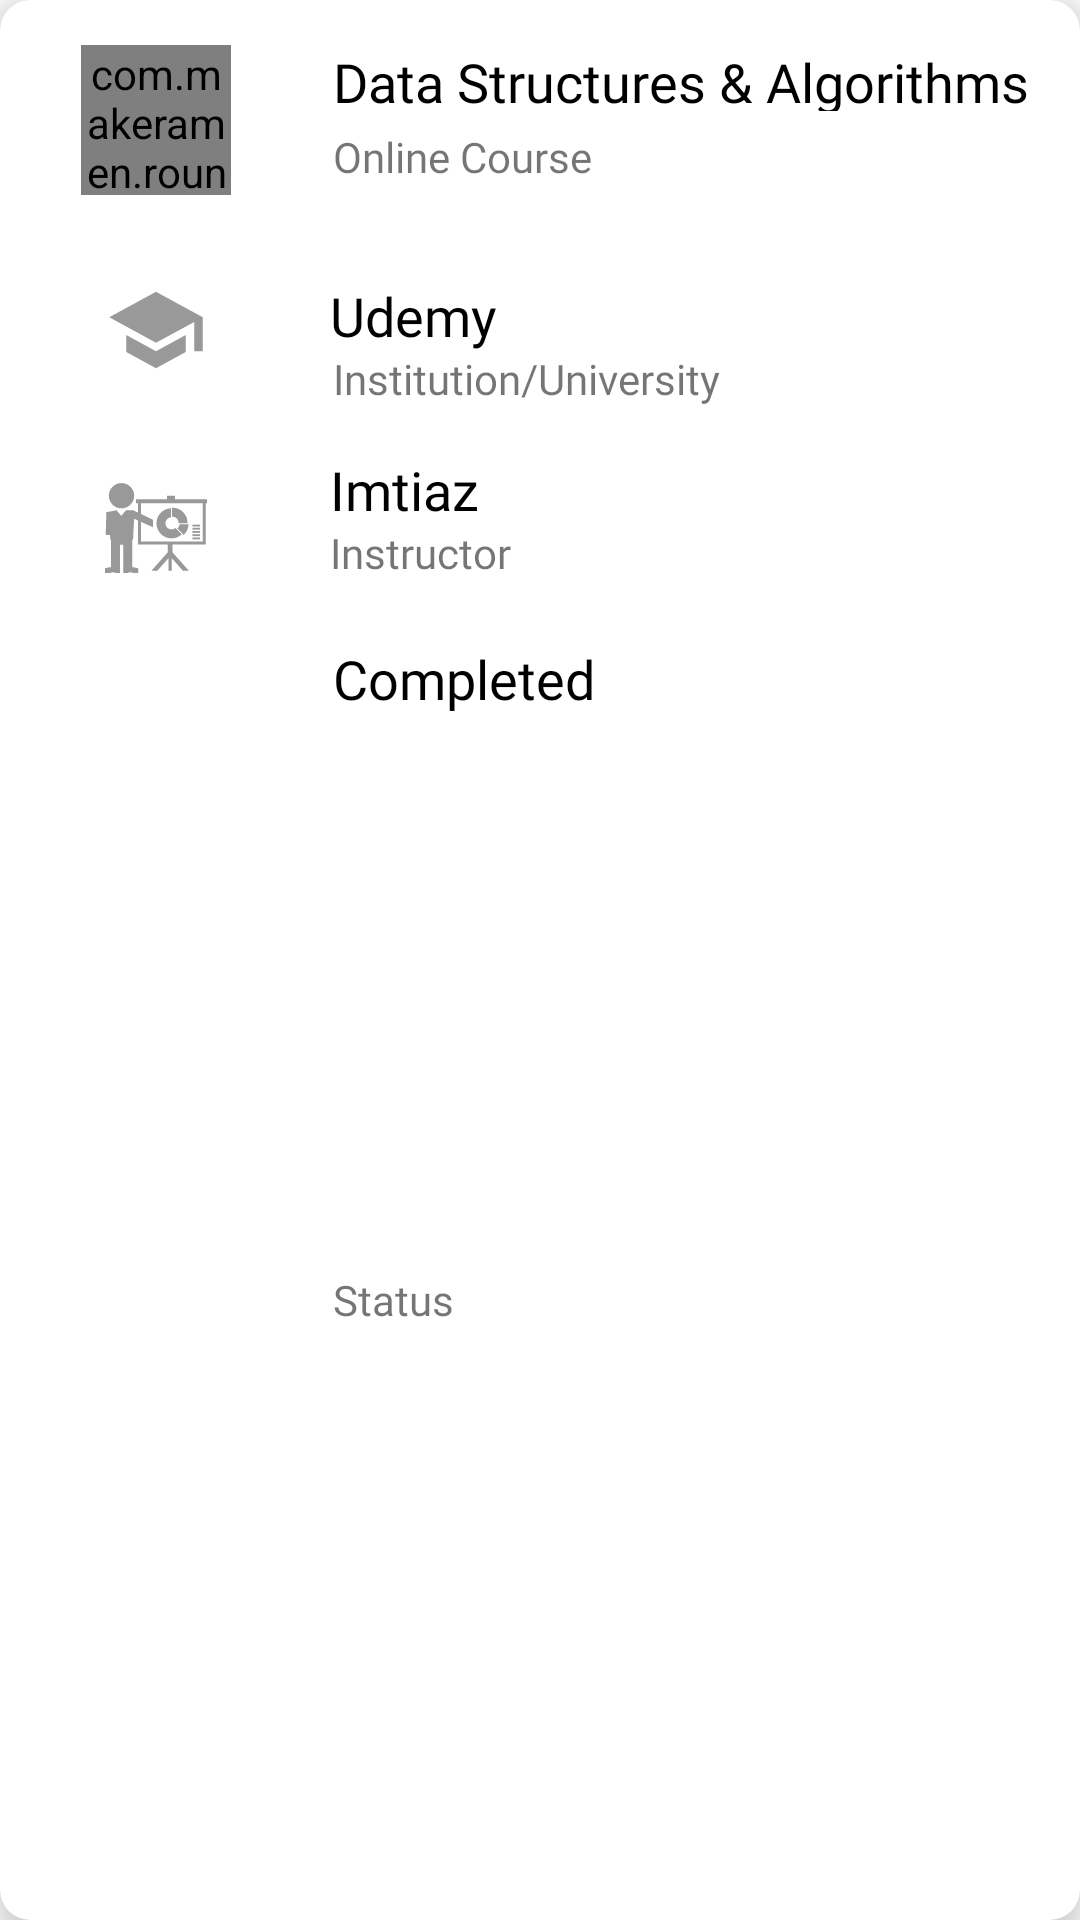

Icon bounding boxes for this 1080x1920 phone screenshot, format (x1, y1, x2, y2):
degree cap: (109, 292, 203, 368)
